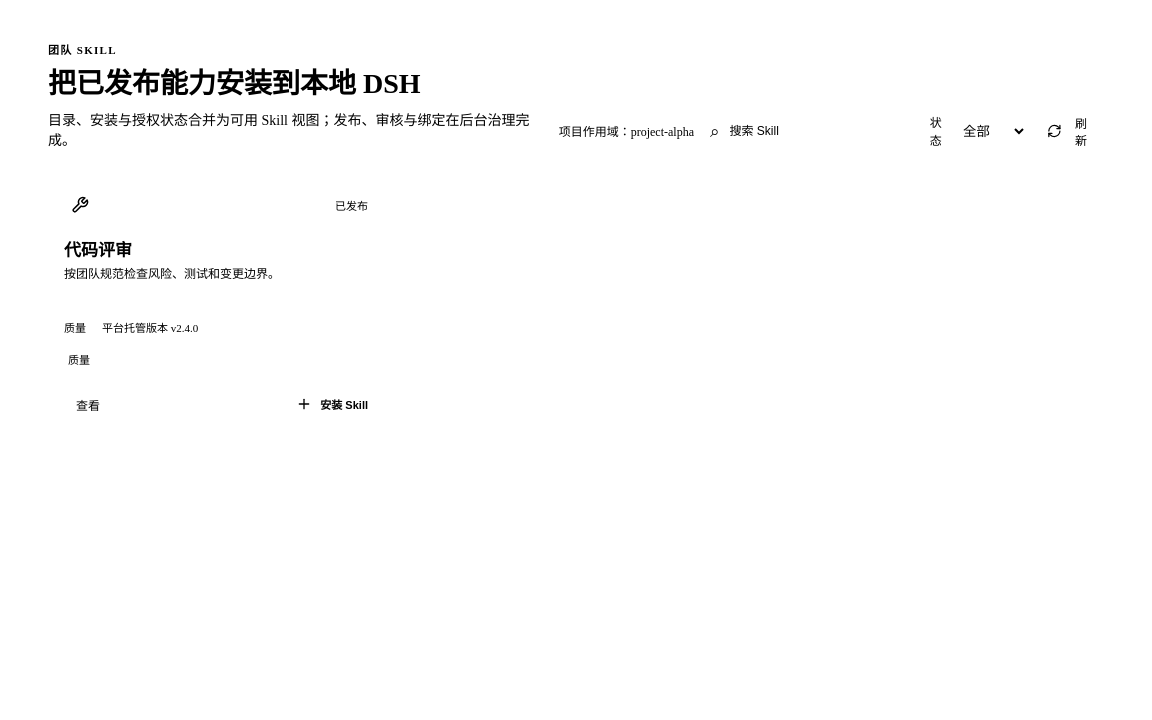
§11.14 信任卡（视图） › 读取失败时显示错误并保留详情，不渲染任何分区
Expected: the heading "代码评审" is shown, [64,241,132,260]
Click the button with aria-label "查看代码评审" at (88, 404), box [64,387,112,421]
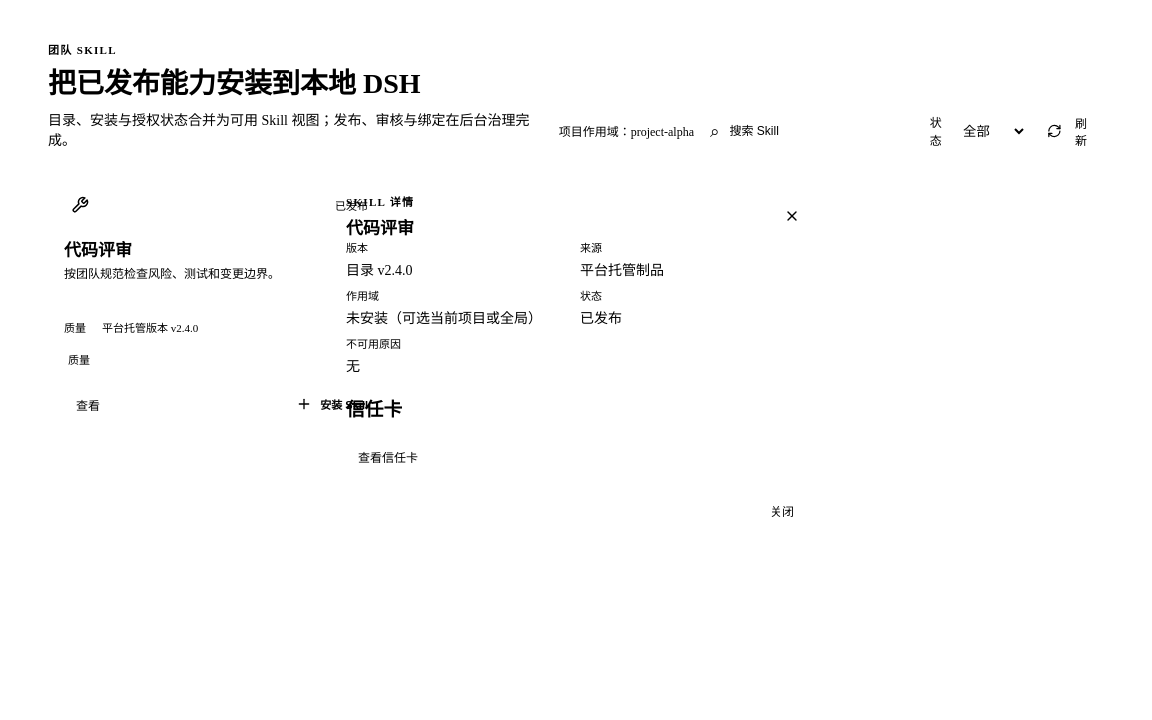
Click the button "查看信任卡" at (388, 457), box [346,440,430,474]
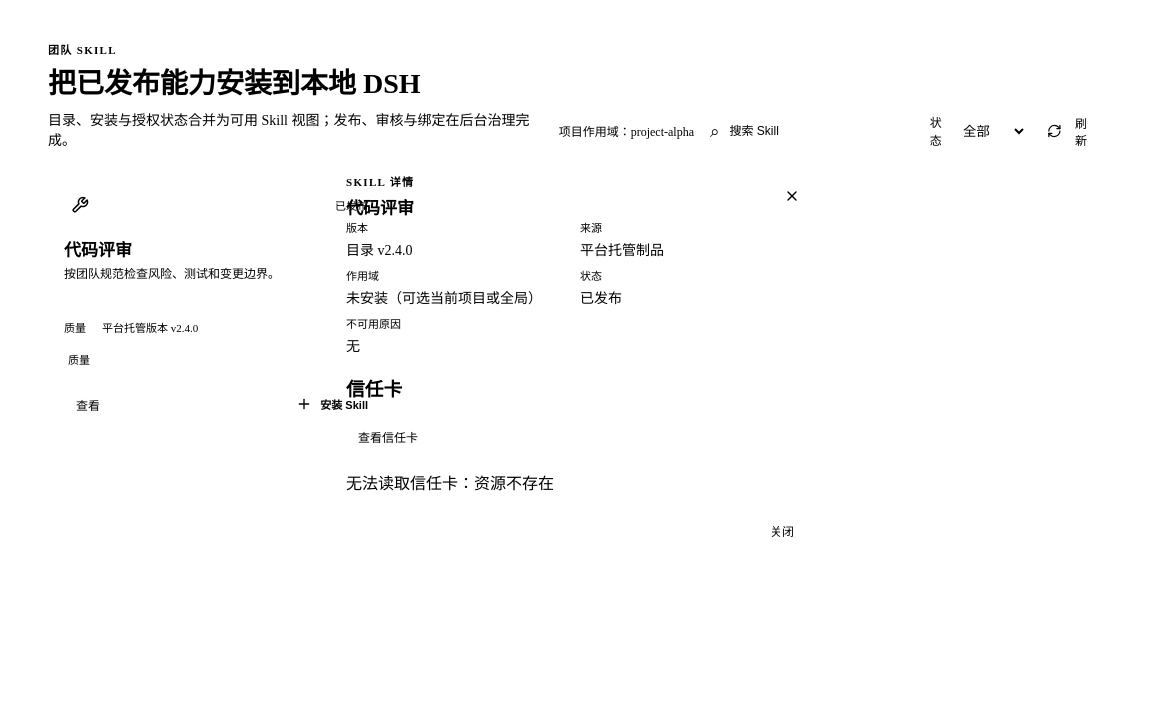
Now the message shows "资源不存在", box [474,475,554,492]
